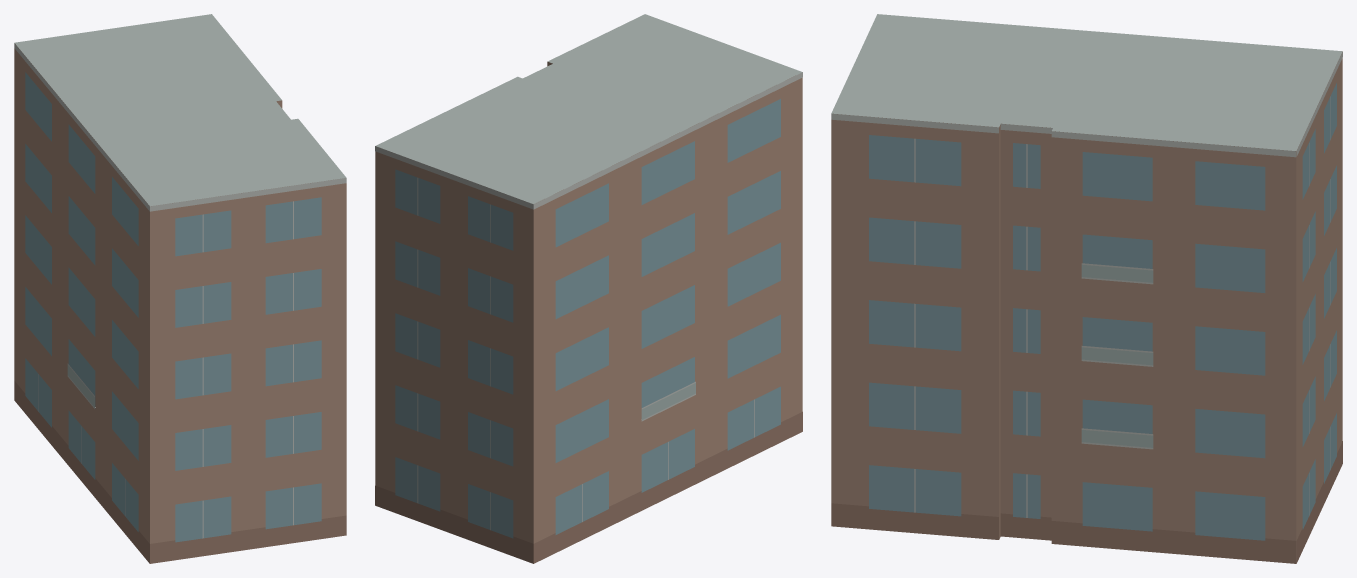
File: survey-upis-32537629.glb
3 renders of one model, left to right at view 1: azimuth 30°, elevation 25°; view 2: azimuth 150°, elevation 25°; view 3: azimuth 270°, elevation 25°, orthographic. The views are drawn at different scales.
Visible parts, largest first — view 1: survey-upis-32537629.tmp; view 2: survey-upis-32537629.tmp; view 3: survey-upis-32537629.tmp.
Boxes of the visible parts, x1,y1,x2,y2 form: survey-upis-32537629.tmp: [14, 14, 346, 563]; survey-upis-32537629.tmp: [375, 14, 802, 563]; survey-upis-32537629.tmp: [831, 14, 1342, 563].
Bounding box in the file's own units: 11.7 × 16.4 × 18.43.
